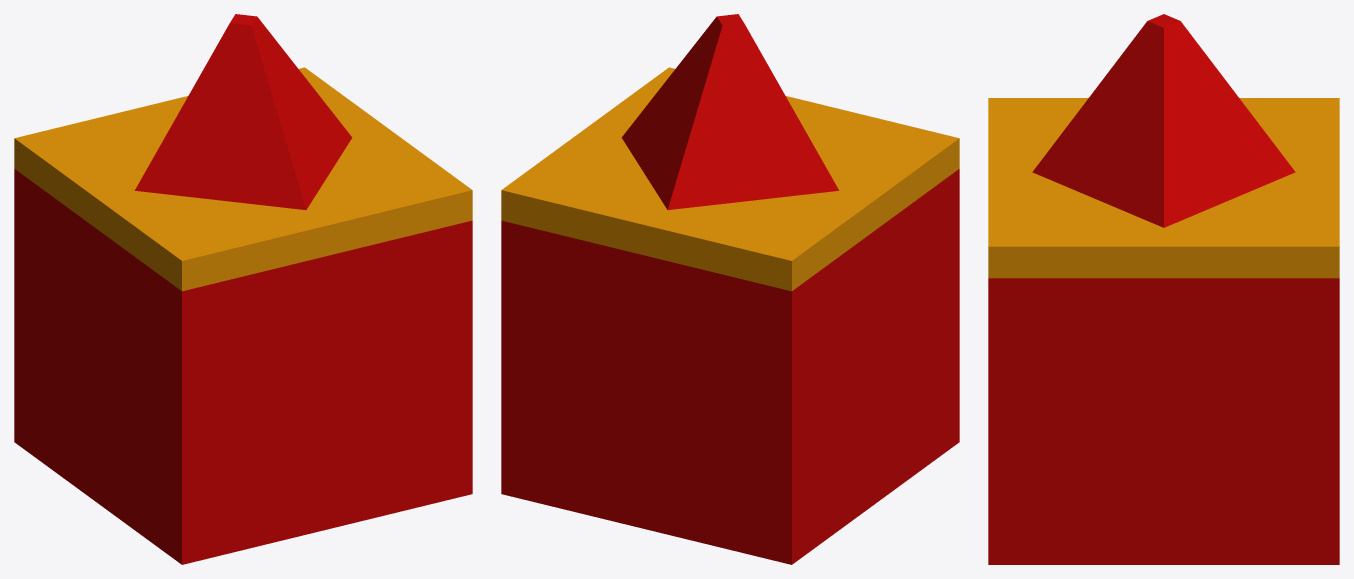
File: cubes-CubeOrange.glb
3 views of the same model, side by side, from view 1: azimuth 30°, elevation 25°; view 2: azimuth 150°, elevation 25°; view 3: azimuth 270°, elevation 25° (orthographic). The views are drawn at different scales.
Parts seen in each view (by area): view 1: Pick&Place.Cube.001; view 2: Pick&Place.Cube.001; view 3: Pick&Place.Cube.001.
Boxes of the visible parts, left/top/right/bottom form: Pick&Place.Cube.001: left=14, top=14, right=472, bottom=564; Pick&Place.Cube.001: left=501, top=14, right=959, bottom=564; Pick&Place.Cube.001: left=988, top=14, right=1339, bottom=564.
Bounding box in the file's own units: 0.04 × 0.059 × 0.04.
